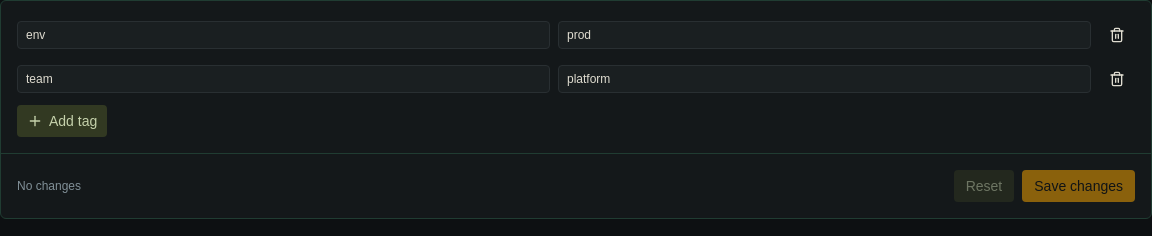
Test: TagsEditor › Reset reverts edits back to initial
The image size is (1152, 236).
Replace the text in the 1st field named "Tag value" with "dev" at [824, 35], box [558,21,1091,49]
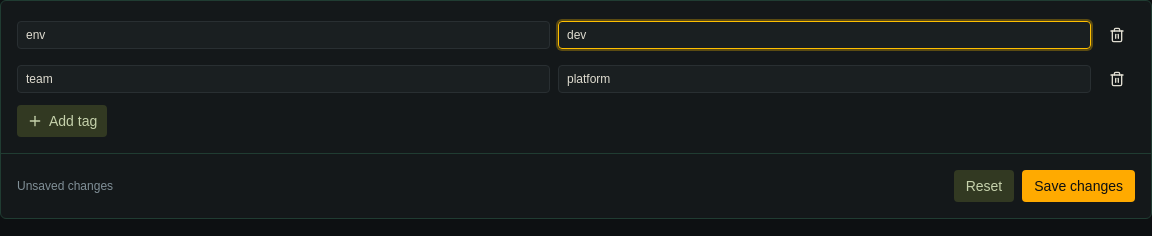
expect the text "Unsaved changes" is shown: met, box [17,178,113,194]
Click the button "Reset".
click(984, 186)  # box [954,170,1014,202]
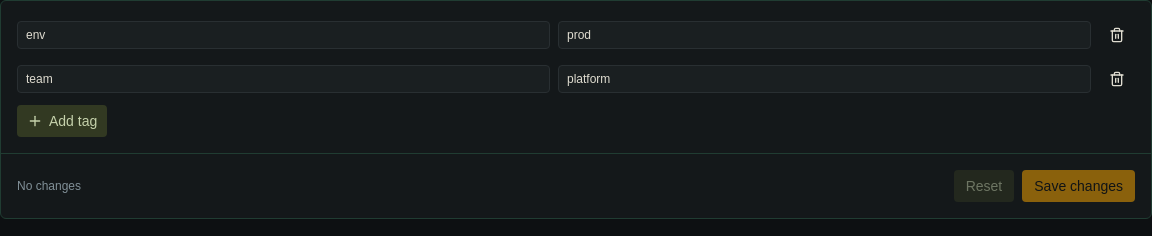
expect the 1st field named "Tag value" holds "prod": met, box [558,21,1091,49]
expect the text "No changes" is shown: met, box [17,178,81,194]
